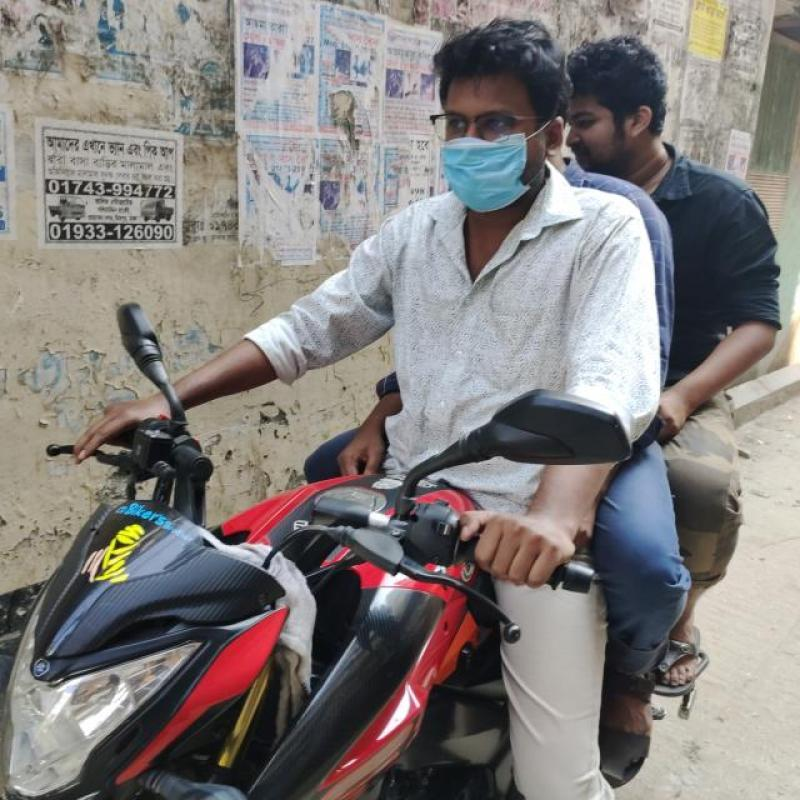nohelmet: (431, 29, 570, 222)
